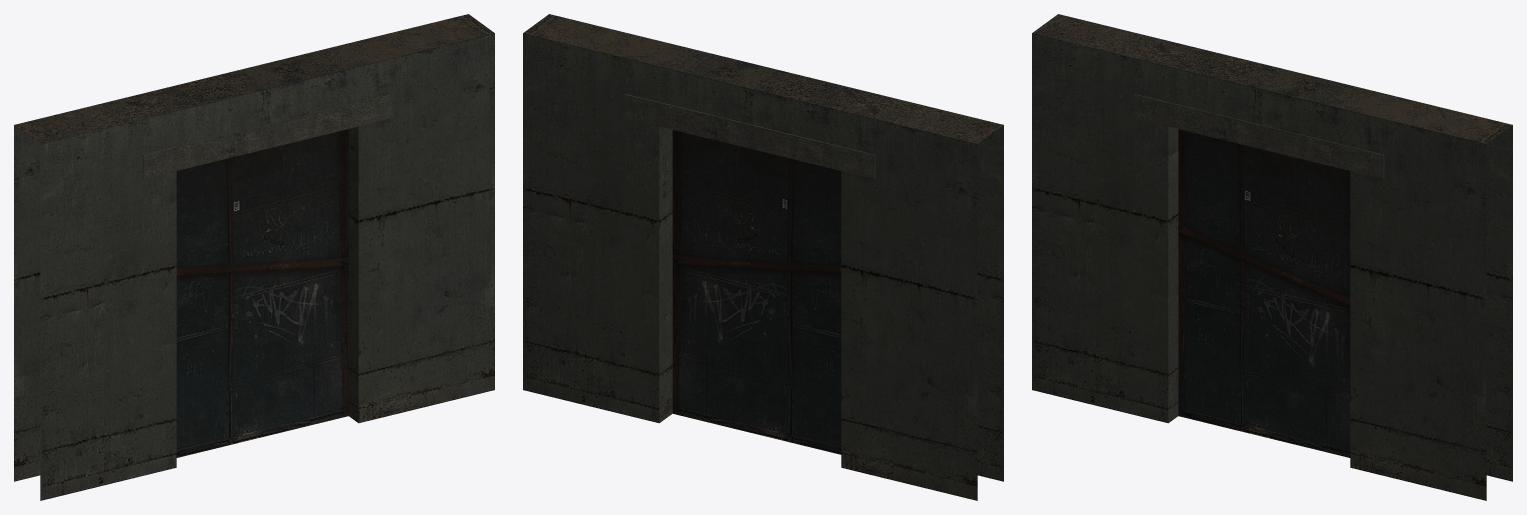
The model's file is doorway_rg_1_wide.glb.
The picture shows the model from 3 angles, left to right: view 1: azimuth 30°, elevation 25°; view 2: azimuth 150°, elevation 25°; view 3: azimuth 330°, elevation 25°; orthographic projection.
Parts seen in each view (by area): view 1: doorway_rg_1_wide; view 2: doorway_rg_1_wide; view 3: doorway_rg_1_wide.
Part boxes in pixels (<box>): doorway_rg_1_wide: <box>14,14,494,500</box>; doorway_rg_1_wide: <box>523,14,1003,500</box>; doorway_rg_1_wide: <box>1032,14,1512,500</box>.
Bounding box in the file's own units: 4 × 3 × 0.42.
4 materials, 4 textured.
